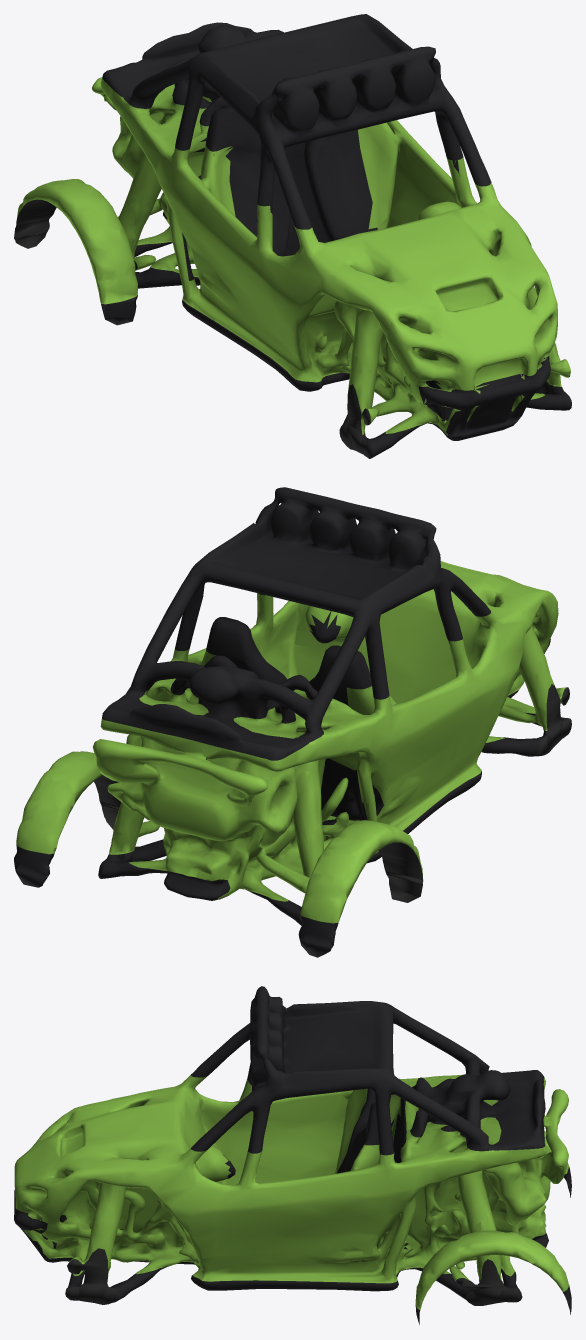
The model's file is buggy.glb.
3 views of the same model, one above another, from view 1: azimuth 30°, elevation 25°; view 2: azimuth 150°, elevation 25°; view 3: azimuth 270°, elevation 25° (orthographic). The views are drawn at different scales.
Parts seen in each view (by area): view 1: body; view 2: body; view 3: body.
Part boxes in pixels (bbox=[...]): body: bbox=[14, 14, 571, 458]; body: bbox=[14, 487, 571, 957]; body: bbox=[14, 986, 571, 1324].
Size of the model in its own units: 2.11 by 1.83 by 3.69.
